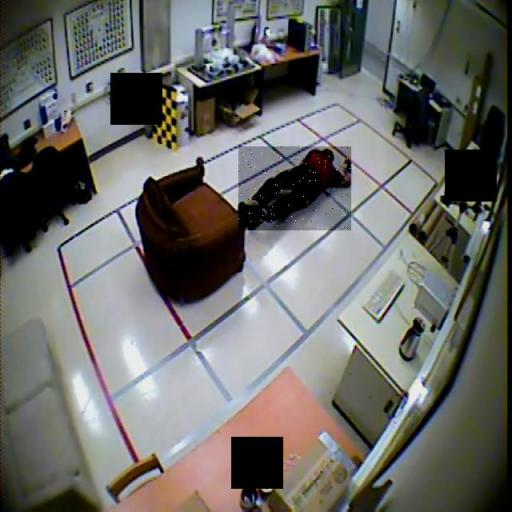Fall: (239, 147, 352, 231)
